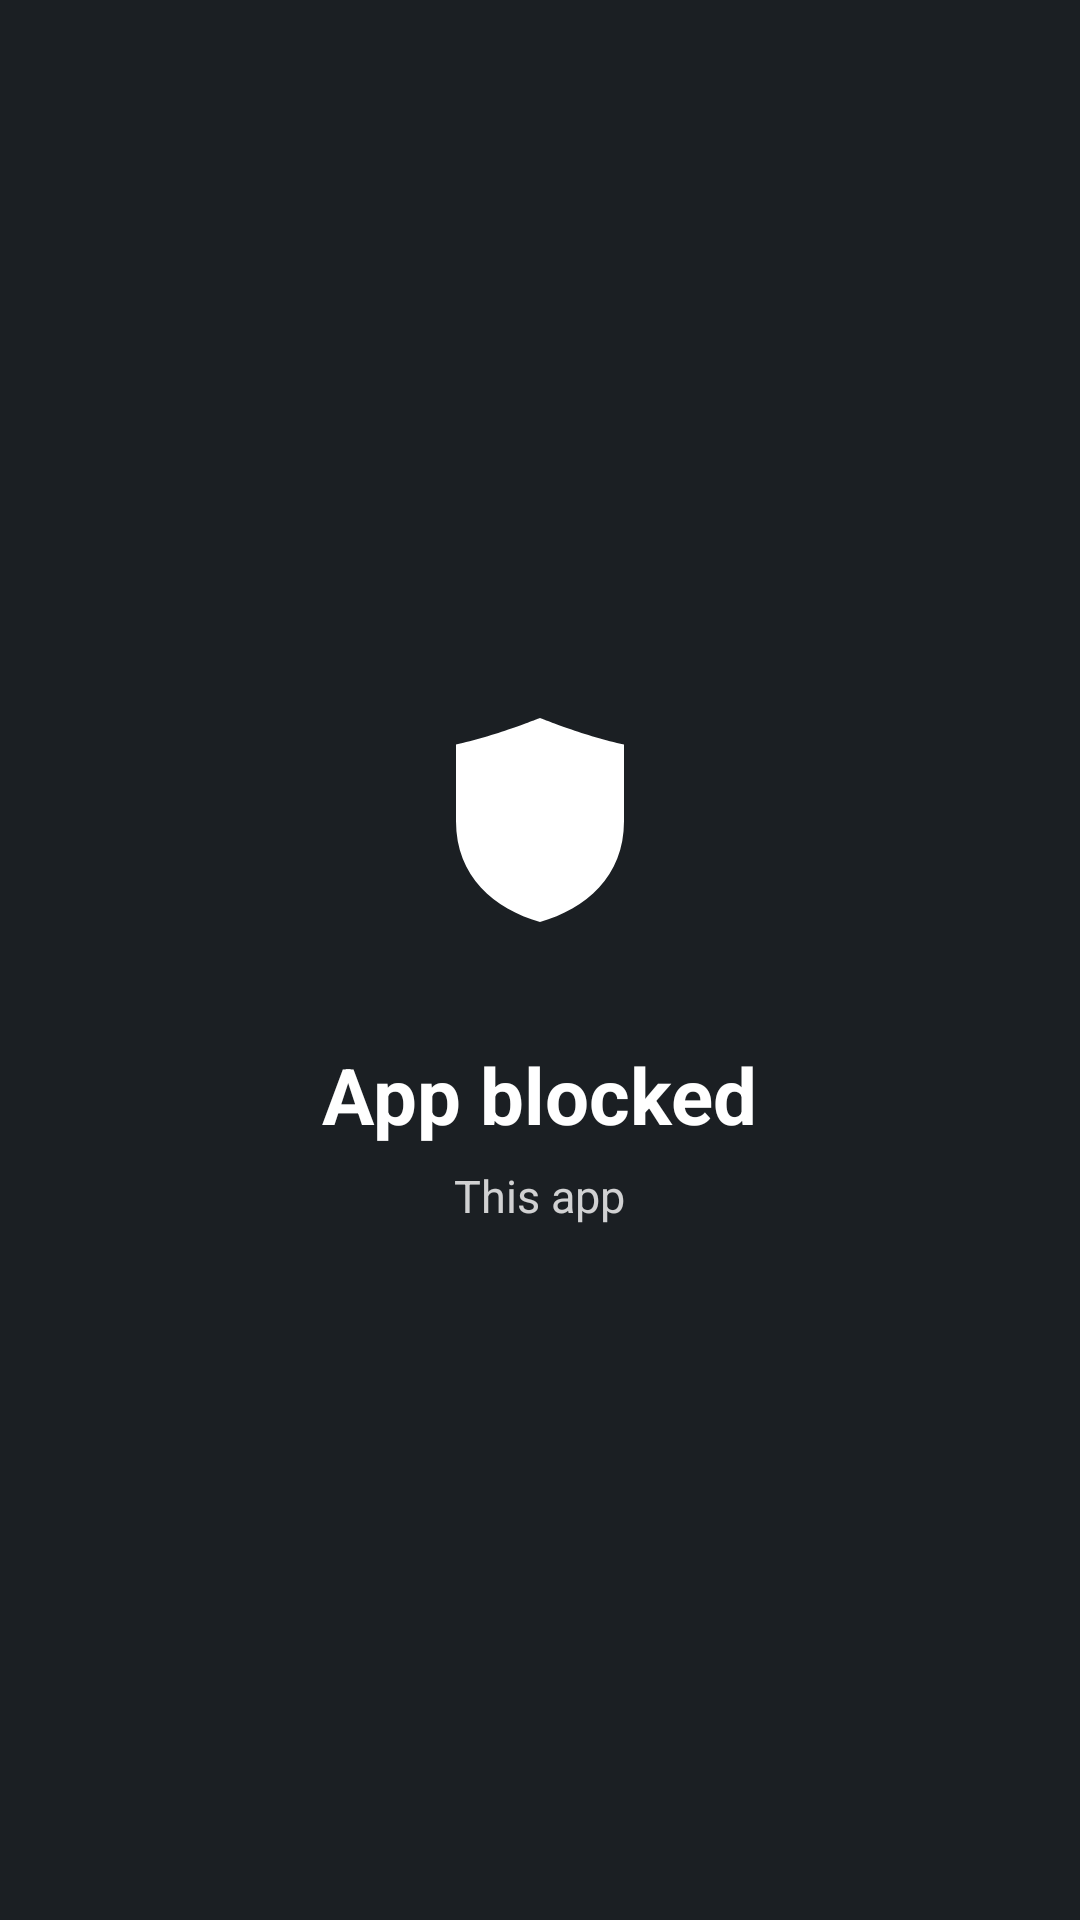

Named icons in this screenshot (1080 x 1920) and their bounding boxes, detection(x1, y1, x2, y2):
Shield: detection(456, 718, 624, 922)
